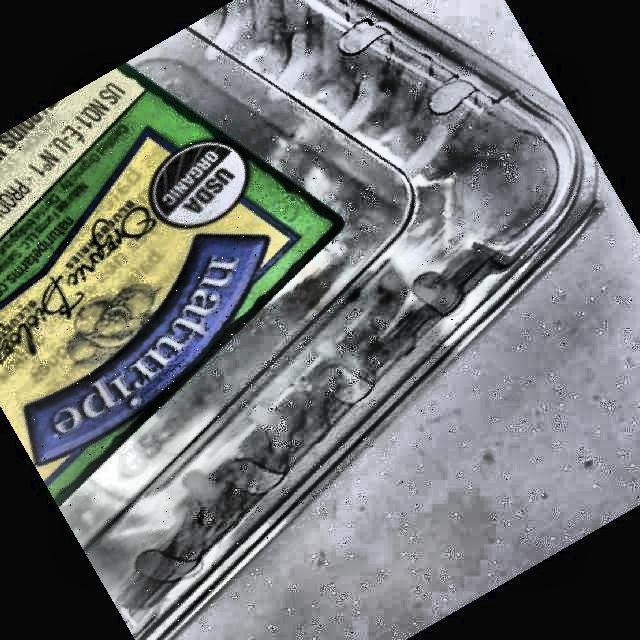plastic: (0, 0, 598, 640)
